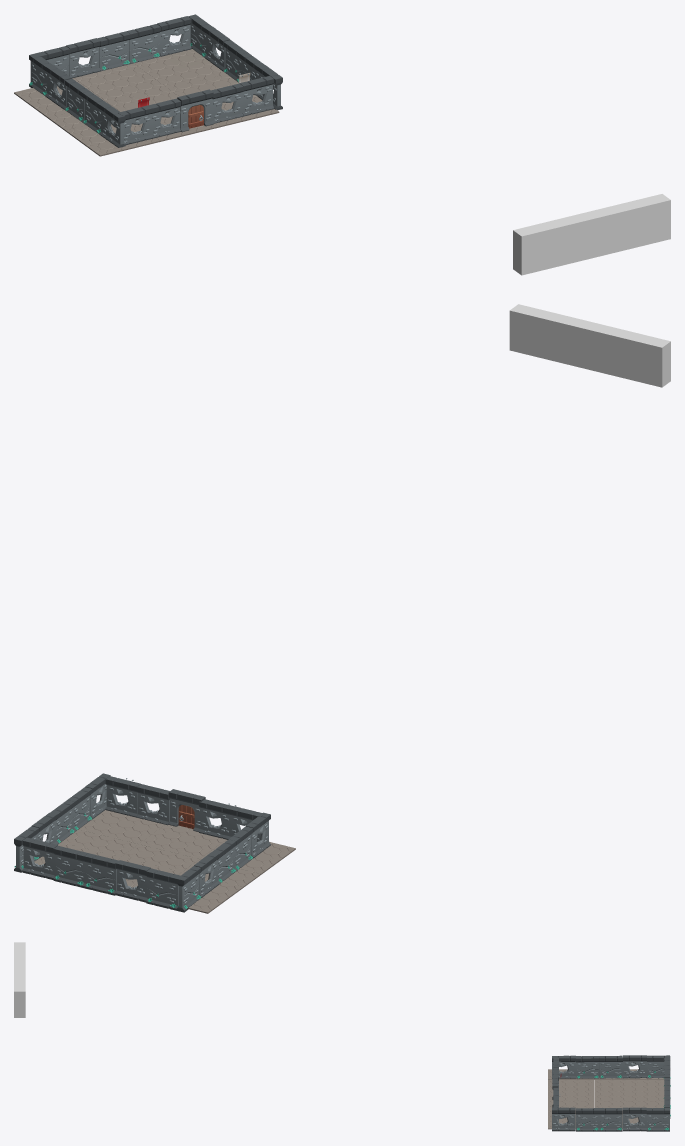
The model's file is map.glb.
3 renders of one model, top to bottom at view 1: azimuth 30°, elevation 25°; view 2: azimuth 150°, elevation 25°; view 3: azimuth 270°, elevation 25°, orthographic. The views are drawn at different scales.
Parts seen in each view (by area): view 1: Cube.002, wall_cracked, wall_cracked.001, wall_broken.002, wall_broken.007, wall_broken.006, wall_broken.001, wall_broken.003, wall_broken.004, wall_doorway, wall_broken.005, wall_broken.008 (+18 smaller); view 2: Cube.002, wall_cracked, wall_cracked.001, wall_cracked.002, wall_broken.006, wall_broken.007, wall_broken.002, wall_broken.001, wall_broken.003; view 3: Cube.002, wall_cracked.006, wall_cracked.007, wall_cracked.008, wall_broken.009, wall_broken.010, wall_cracked.005, wall_cracked.004, wall_broken.008, wall_cracked.003, wall_broken.005.
Boxes of the visible parts, x1,y1,x2,y2 form: Cube.002: (513,194,670,275); wall_cracked: (97,31,130,71); wall_cracked.001: (127,24,160,63); wall_broken.002: (239,76,274,116); wall_broken.007: (157,16,191,56); wall_broken.006: (66,38,100,78); wall_broken.001: (211,83,243,123); wall_broken.003: (149,98,182,138); wall_broken.004: (118,105,152,144); wall_doorway: (177,89,213,132); wall_broken.005: (100,103,125,147); wall_broken.008: (46,65,71,109); Cube.002: (509,304,670,387); wall_cracked: (84,853,118,895); wall_cracked.001: (53,845,88,887); wall_cracked.002: (146,868,180,910); wall_broken.006: (115,860,150,902); wall_broken.007: (22,837,57,879); wall_broken.002: (105,776,140,817); wall_broken.001: (136,784,169,825); wall_broken.003: (199,799,233,839); Cube.002: (14,942,25,1017); wall_cracked.006: (599,1108,622,1131); wall_cracked.007: (576,1108,599,1131); wall_cracked.008: (646,1108,669,1131); wall_broken.009: (623,1107,646,1131); wall_broken.010: (552,1107,575,1131); wall_cracked.005: (599,1055,622,1078); wall_cracked.004: (576,1056,599,1079); wall_broken.008: (623,1055,646,1078); wall_cracked.003: (647,1055,670,1078); wall_broken.005: (552,1055,575,1078).
Bounding box in the file's own units: 25.04 × 25.92 × 113.
65 materials, 64 textured.
